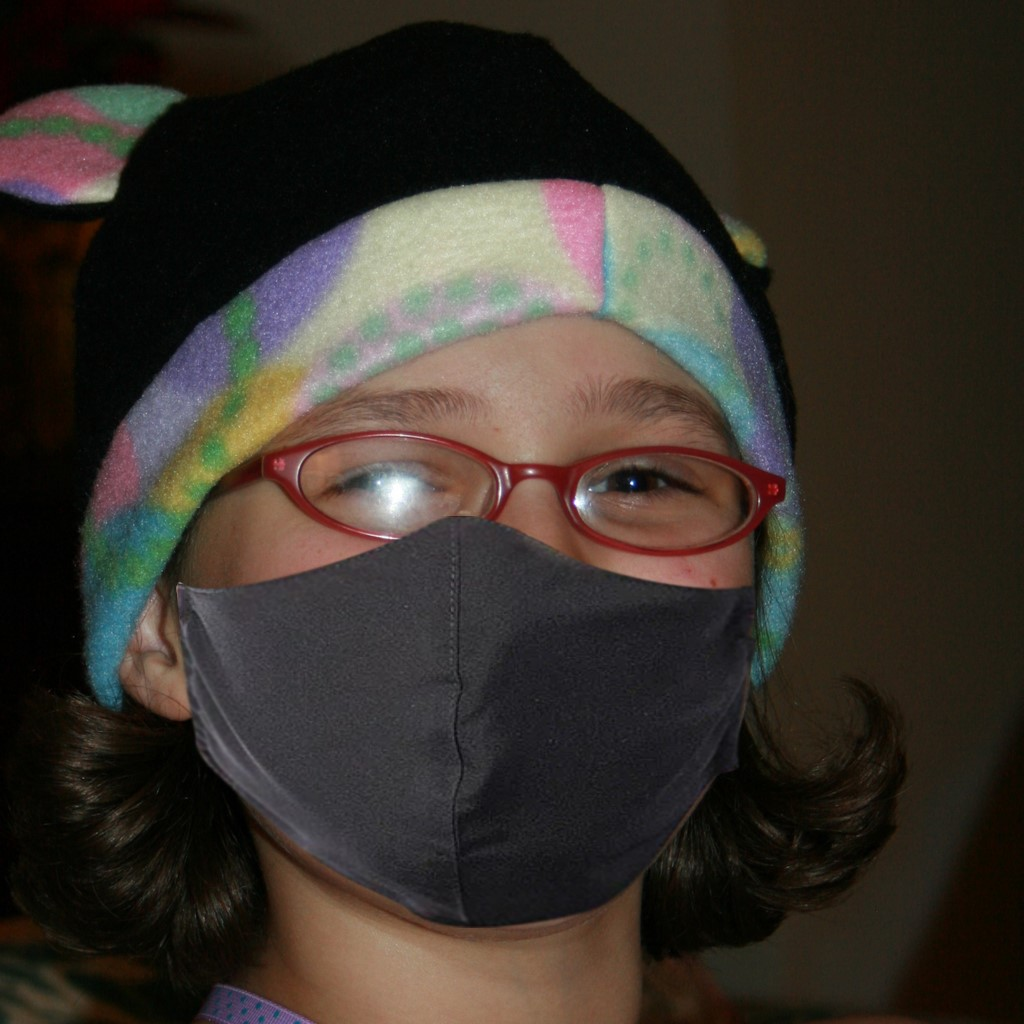con_mascara: (148, 168, 766, 928)
